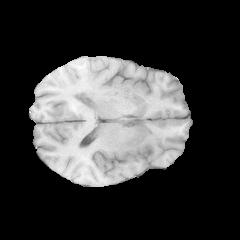glioma: (71, 80, 142, 123)
